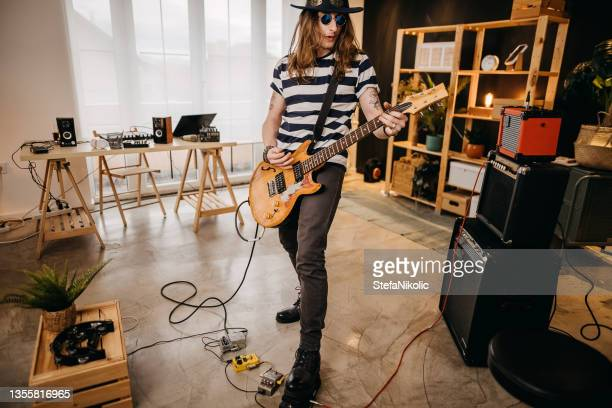acousticguitar: (246, 80, 452, 230)
